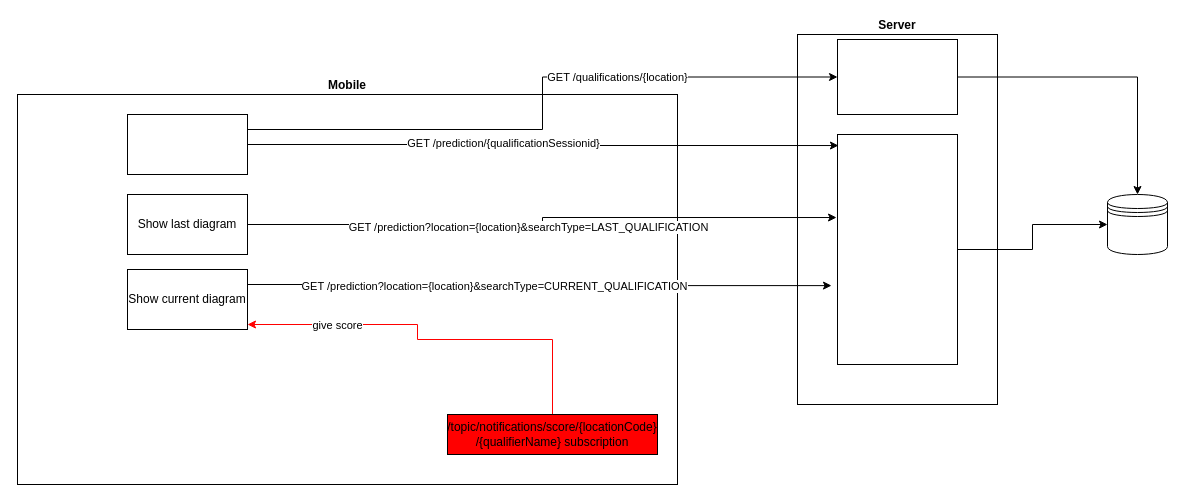
This 1185x502 diagram has some shape labels left out. The shapes that lost their labels are listed below. From the top down, each one's centre as x and y in pixels, then its label:
the point at 897,76: Qualification controller
the point at 187,144: Show old diagram
the point at 897,249: Prediction controller
